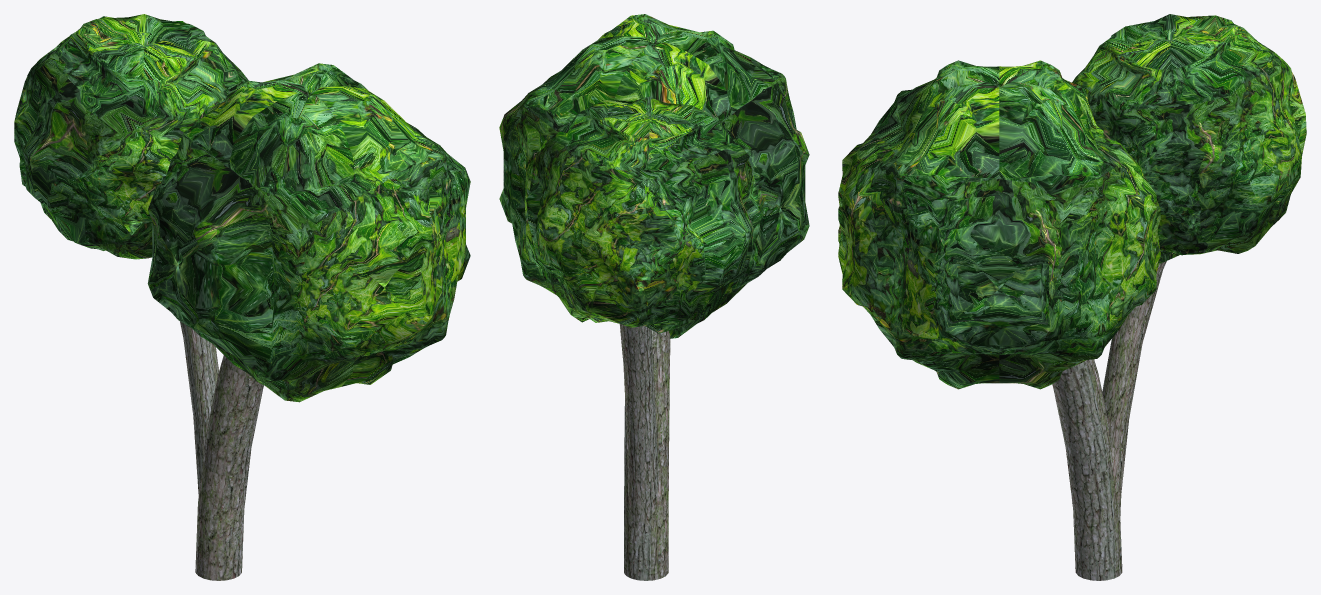
File: baum4.DAE
The picture shows the model from 3 angles, left to right: view 1: azimuth 30°, elevation 25°; view 2: azimuth 150°, elevation 25°; view 3: azimuth 270°, elevation 25°; orthographic projection. The views are drawn at different scales.
Visible parts, largest first — view 1: Geosph_re001, Geosph_re002, Zylinder001, Zylinder002; view 2: Geosph_re002, Geosph_re001, Zylinder002, Zylinder001; view 3: Geosph_re001, Geosph_re002, Zylinder001, Zylinder002.
Part boxes in pixels (bbox=[...]): Geosph_re001: bbox=[147, 63, 470, 402]; Geosph_re002: bbox=[14, 14, 248, 259]; Zylinder001: bbox=[195, 355, 263, 580]; Zylinder002: bbox=[180, 321, 218, 495]; Geosph_re002: bbox=[526, 96, 761, 333]; Geosph_re001: bbox=[499, 14, 809, 338]; Zylinder002: bbox=[619, 323, 658, 533]; Zylinder001: bbox=[624, 330, 670, 580]; Geosph_re001: bbox=[838, 60, 1160, 389]; Geosph_re002: bbox=[1072, 14, 1306, 263]; Zylinder001: bbox=[1052, 359, 1122, 580]; Zylinder002: bbox=[1102, 261, 1166, 515].
Size of the model in its own units: 96.68 by 118 by 146.
